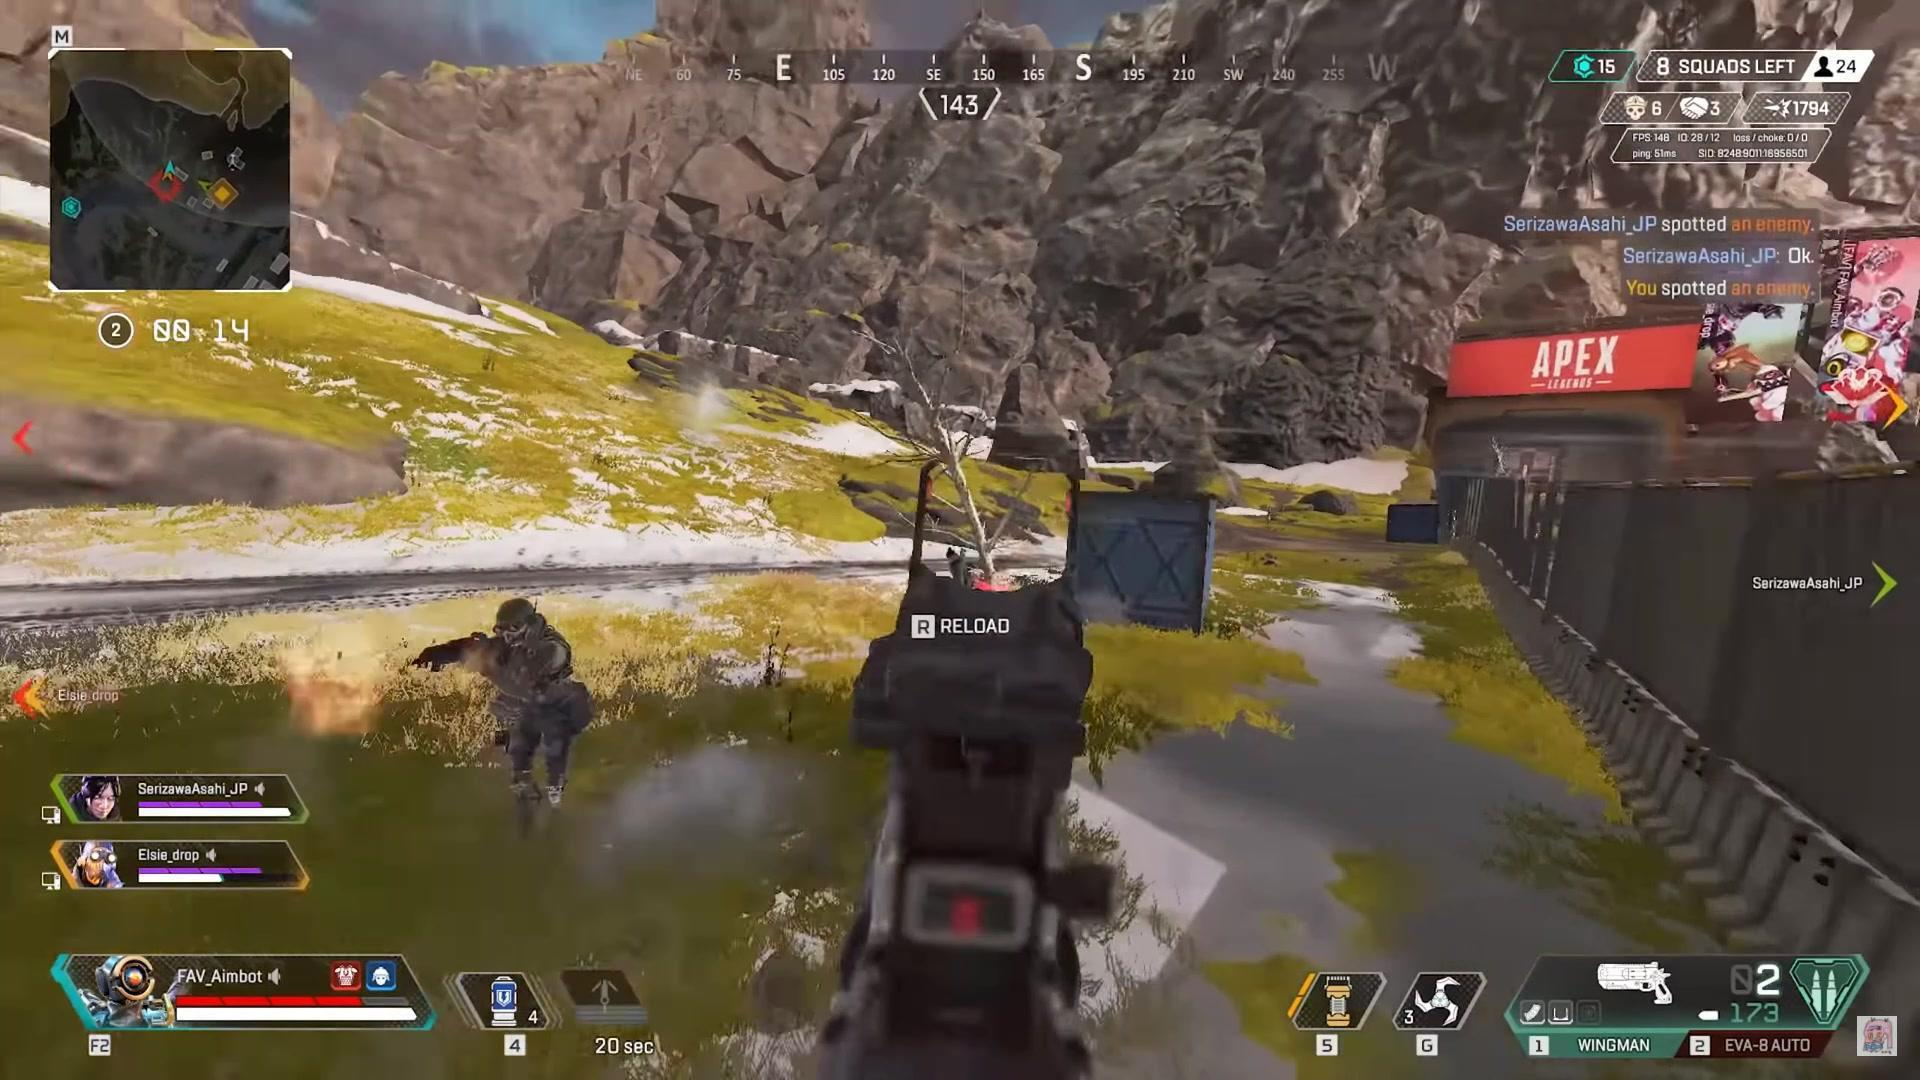avatar: (479, 596, 601, 847)
